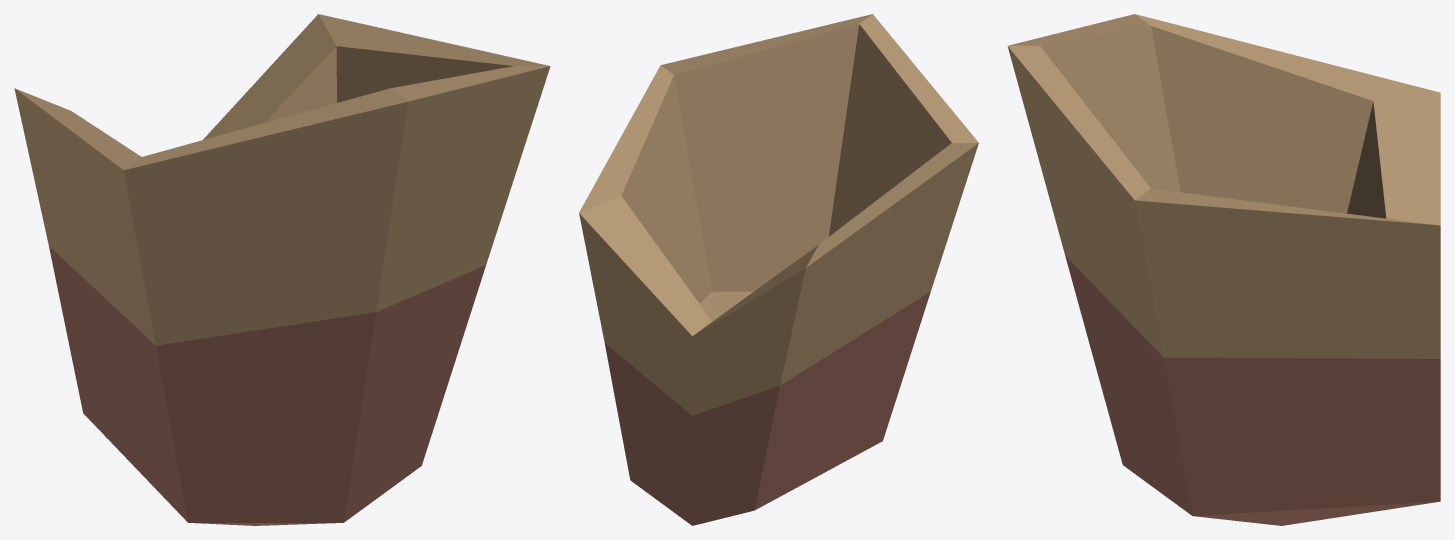
Rendered from Wall-Lamp.fbx.
The picture shows the model from 3 angles, left to right: view 1: azimuth 30°, elevation 25°; view 2: azimuth 150°, elevation 25°; view 3: azimuth 270°, elevation 25°; orthographic projection. The views are drawn at different scales.
Parts seen in each view (by area): view 1: Wall_Lamp; view 2: Wall_Lamp; view 3: Wall_Lamp.
Part boxes in pixels (bbox=[...]): Wall_Lamp: bbox=[14, 14, 550, 525]; Wall_Lamp: bbox=[579, 14, 978, 525]; Wall_Lamp: bbox=[1007, 14, 1440, 525].
Size of the model in its own units: 173 by 208 by 170.
